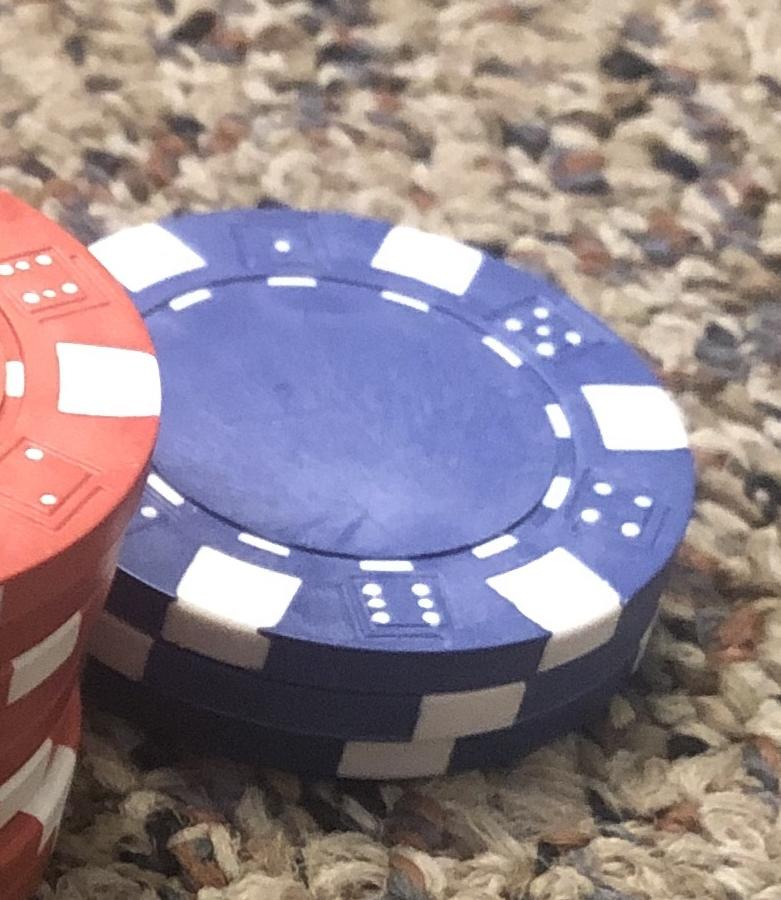Chip: (1, 1, 781, 900)
